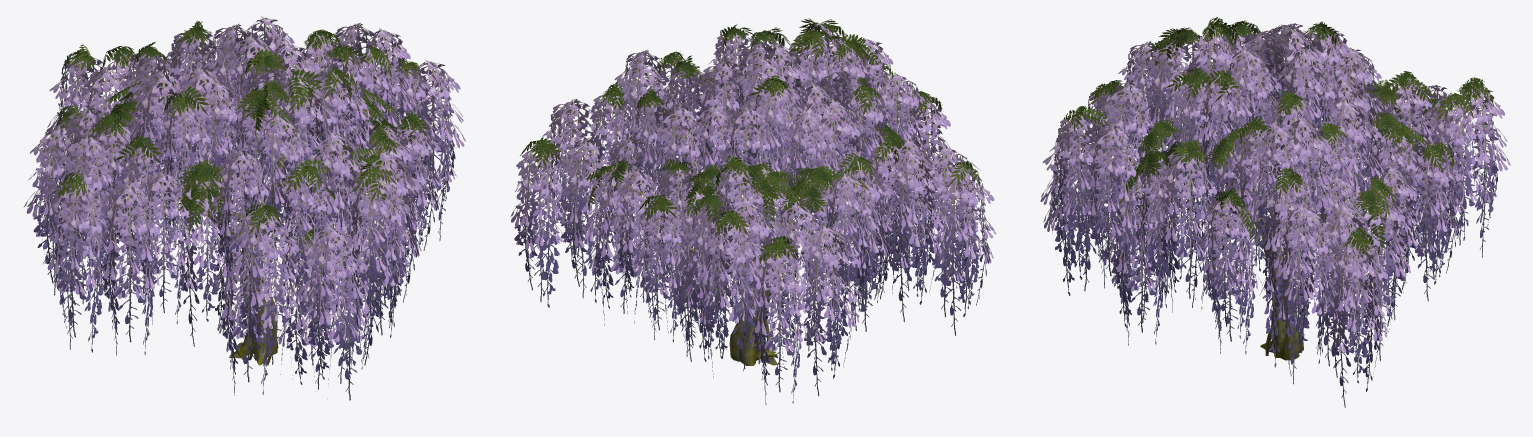
The model's file is Wisteria2.fbx.
The picture shows the model from 3 angles, left to right: view 1: azimuth 30°, elevation 25°; view 2: azimuth 150°, elevation 25°; view 3: azimuth 270°, elevation 25°; orthographic projection. The views are drawn at different scales.
Visible parts, largest first — view 1: SM_a_001_Wisteria_02a; view 2: SM_a_001_Wisteria_02a; view 3: SM_a_001_Wisteria_02a.
Part boxes in pixels (box(x1,y1,x2,y2)): SM_a_001_Wisteria_02a: box(23, 16, 465, 400); SM_a_001_Wisteria_02a: box(510, 18, 996, 405); SM_a_001_Wisteria_02a: box(1040, 17, 1510, 407).
Bounding box in the file's own units: 591 × 420 × 564.
